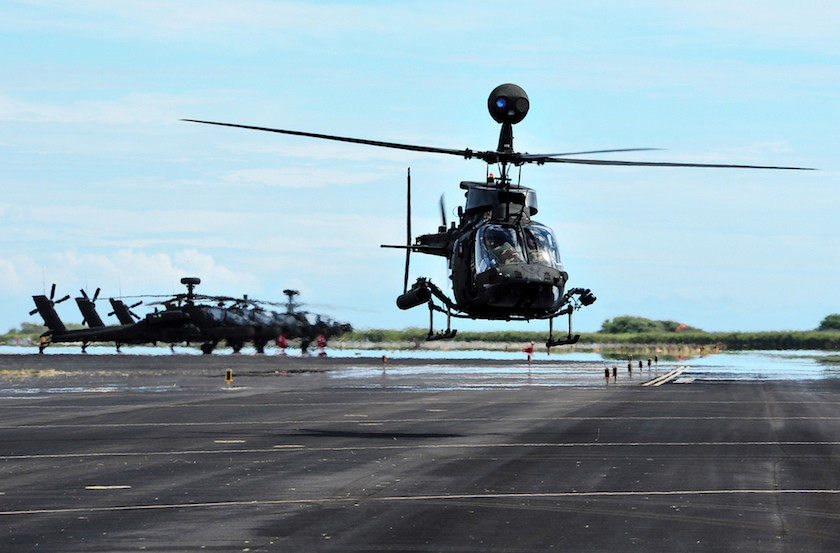MilitaryHelicopter: (396, 113, 608, 345), (29, 274, 257, 360)
